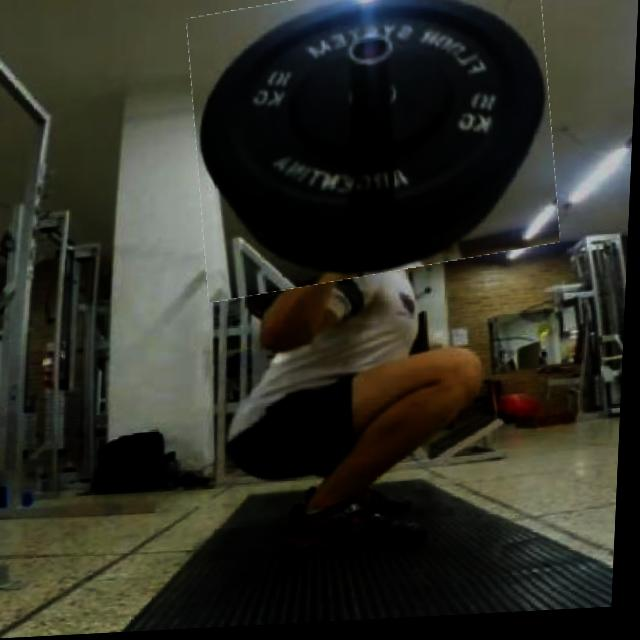barbell: (186, 1, 566, 296)
